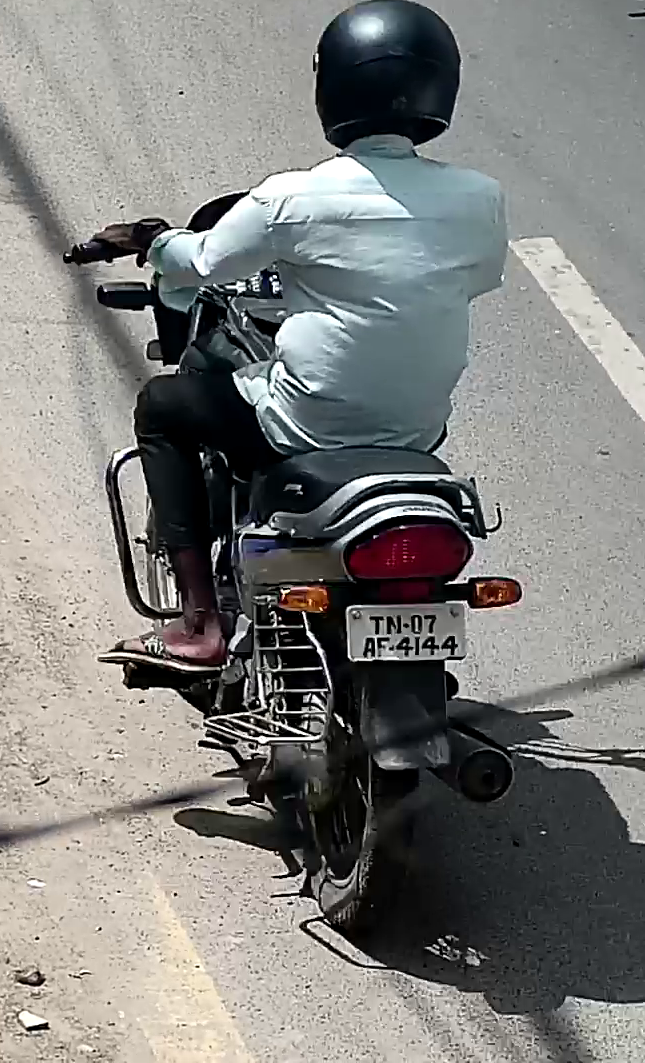-: (388, 644, 395, 652), (403, 622, 409, 629)
0: (410, 614, 423, 634)
1: (413, 636, 421, 656)
4: (440, 635, 459, 656), (421, 636, 439, 656), (396, 636, 413, 657)
7: (423, 613, 437, 634)
A: (362, 637, 376, 659)
F: (376, 636, 388, 660)
N: (385, 614, 401, 634)
P16: (344, 601, 469, 665)
T: (369, 615, 384, 635)
